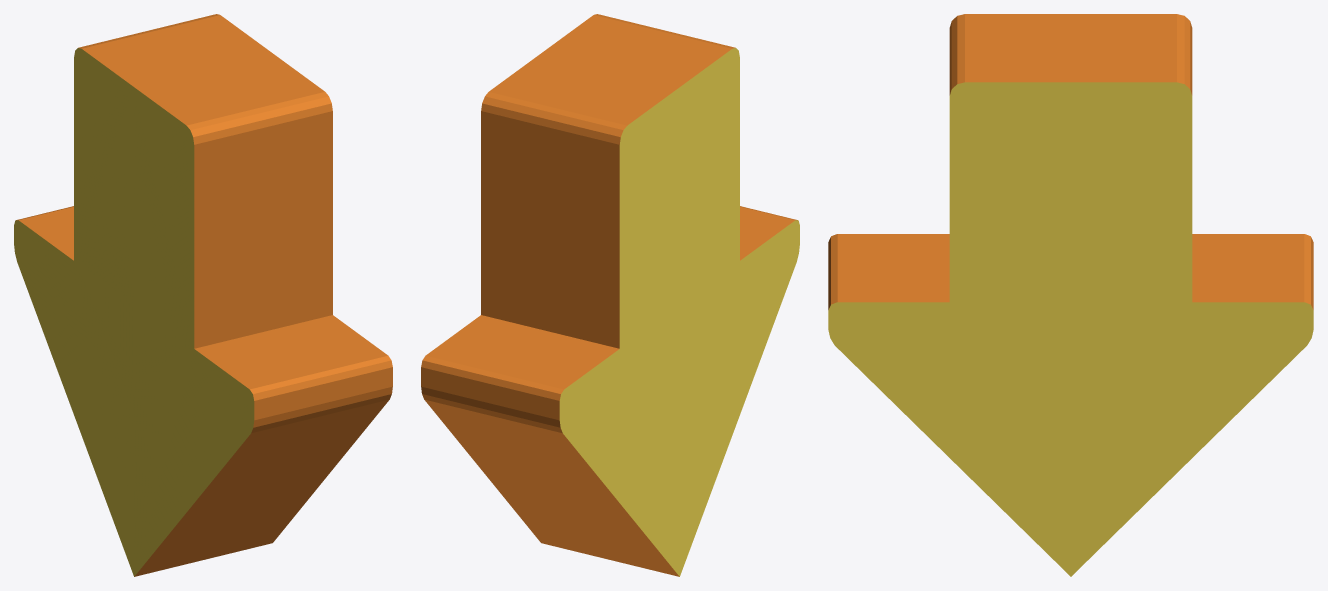
File: Arrow.fbx
3 renders of one model, left to right at view 1: azimuth 30°, elevation 25°; view 2: azimuth 150°, elevation 25°; view 3: azimuth 270°, elevation 25°, orthographic.
Visible parts, largest first — view 1: Arrow; view 2: Arrow; view 3: Arrow.
Boxes of the visible parts, <box> form: Arrow: <box>14,14,392,576</box>; Arrow: <box>421,14,799,576</box>; Arrow: <box>828,14,1313,576</box>.
Bounding box in the file's own units: 200 × 675 × 600.
